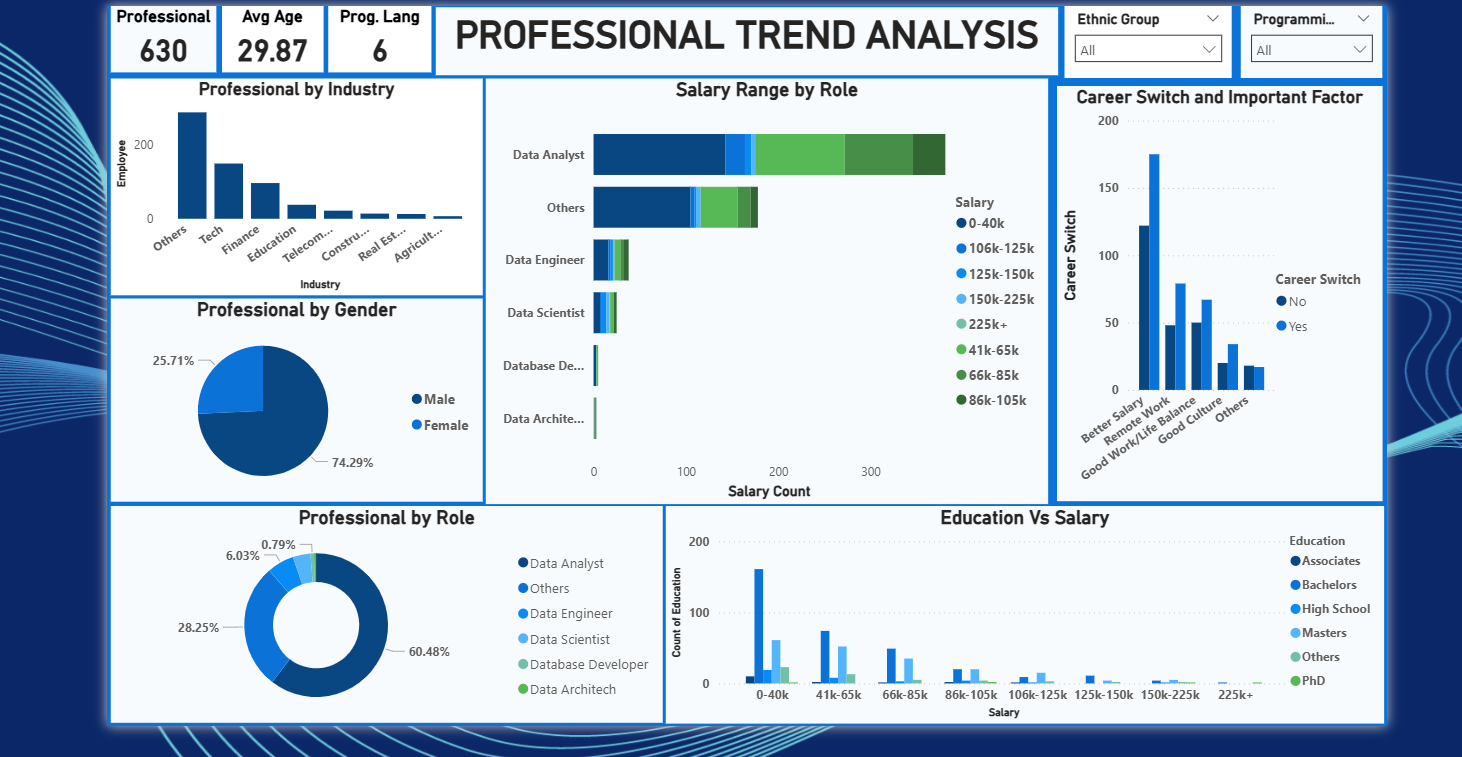

What the dashboard file says about the page in this screenshot:
{"tool":"powerbi","page":{"name":"DASHBOARD","canvas":[1280,720],"ordinal":0},"visuals":[{"type":"card","title":"Professional","fields":{"Values":["Count(Power BI - Final Project xlsx - Data Professional Survey.ID)"]},"box":[3.3,0,105.8,66.8],"z":0},{"type":"card","title":"Avg Age","fields":{"Values":["Avg(Power BI - Final Project xlsx - Data Professional Survey.Current Age)"]},"box":[114.7,0,101.3,66.8],"z":1000},{"type":"card","title":"Prog. Lang","fields":{"Values":["Count(Power BI - Final Project xlsx - Data Professional Survey.Programming Language)"]},"box":[221.5,0,103.5,66.8],"z":2000},{"type":"barChart","title":"Salary Range by Role ","fields":{"Category":["Power BI - Final Project xlsx - Data Professional Survey.Role"],"Y":["CountNonNull(Power BI - Final Project xlsx - Data Professional Survey.Salary)"],"Series":["Power BI - Final Project xlsx - Data Professional Survey.Salary"]},"box":[379.1,72.1,562.8,425.6],"z":3000},{"type":"columnChart","title":"Professional by Industry","fields":{"Category":["Power BI - Final Project xlsx - Data Professional Survey.Industry"],"Y":["CountNonNull(Power BI - Final Project xlsx - Data Professional Survey.ID)"]},"box":[3.3,72.4,371.8,217.1],"z":4000},{"type":"donutChart","title":"Professional by Role","fields":{"Y":["CountNonNull(Power BI - Final Project xlsx - Data Professional Survey.ID)"],"Category":["Power BI - Final Project xlsx - Data Professional Survey.Role"]},"box":[3.3,499.8,552.1,217.1],"z":5000},{"type":"clusteredColumnChart","title":"Education Vs Salary","fields":{"Series":["Power BI - Final Project xlsx - Data Professional Survey.Education"],"Category":["Power BI - Final Project xlsx - Data Professional Survey.Salary"],"Y":["CountNonNull(Power BI - Final Project xlsx - Data Professional Survey.Education)"]},"box":[559.3,500,718.6,217.4],"z":6000},{"type":"clusteredColumnChart","title":"Career Switch and Important Factor ","fields":{"Category":["Power BI - Final Project xlsx - Data Professional Survey.Important Factor"],"Y":["CountNonNull(Power BI - Final Project xlsx - Data Professional Survey.Career Switch)"],"Series":["Power BI - Final Project xlsx - Data Professional Survey.Career Switch"]},"box":[950,80.2,325.6,415.1],"z":7000},{"type":"pieChart","title":"Professional by Gender","fields":{"Category":["Power BI - Final Project xlsx - Data Professional Survey.Gender"],"Y":["CountNonNull(Power BI - Final Project xlsx - Data Professional Survey.ID)"]},"box":[3.5,293,372.1,203.5],"z":8000},{"type":"slicer","fields":{"Values":["Power BI - Final Project xlsx - Data Professional Survey.Programming Language"]},"box":[1133.7,0,141.9,72.1],"z":9000},{"type":"slicer","fields":{"Values":["Power BI - Final Project xlsx - Data Professional Survey.Ethnic Group"]},"box":[957,0,167.4,72.1],"z":10000},{"type":"textbox","box":[328.4,1.1,622.3,67.9],"z":11000}]}

Visuals, with their boxes in screenshot pixels (x1, y1, x2, y2):
"Professional" card: box(106, 4, 212, 71)
"Avg Age" card: box(218, 4, 319, 71)
"Prog. Lang" card: box(325, 4, 428, 71)
"Salary Range by Role " barChart: box(482, 76, 1046, 502)
"Professional by Industry" columnChart: box(106, 76, 478, 294)
"Professional by Role" donutChart: box(106, 504, 659, 721)
"Education Vs Salary" clusteredColumnChart: box(663, 504, 1382, 722)
"Career Switch and Important Factor " clusteredColumnChart: box(1054, 84, 1380, 500)
"Professional by Gender" pieChart: box(106, 297, 479, 501)
slicer - Power BI - Final Project xlsx - Data Professional Survey.Programming Language: box(1238, 4, 1380, 76)
slicer - Power BI - Final Project xlsx - Data Professional Survey.Ethnic Group: box(1061, 4, 1228, 76)
textbox: box(432, 5, 1054, 73)
